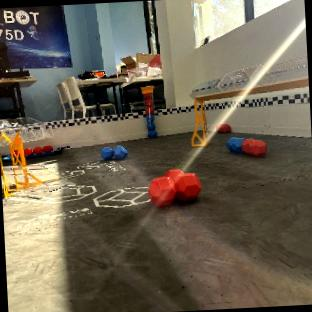Goal: (190, 56, 308, 146)
Med_goal: (0, 117, 58, 197)
V5_BLUE: (100, 145, 126, 159)
V5_RED: (148, 168, 201, 206), (141, 86, 156, 136), (241, 139, 266, 157), (23, 145, 52, 155), (217, 123, 230, 132)
